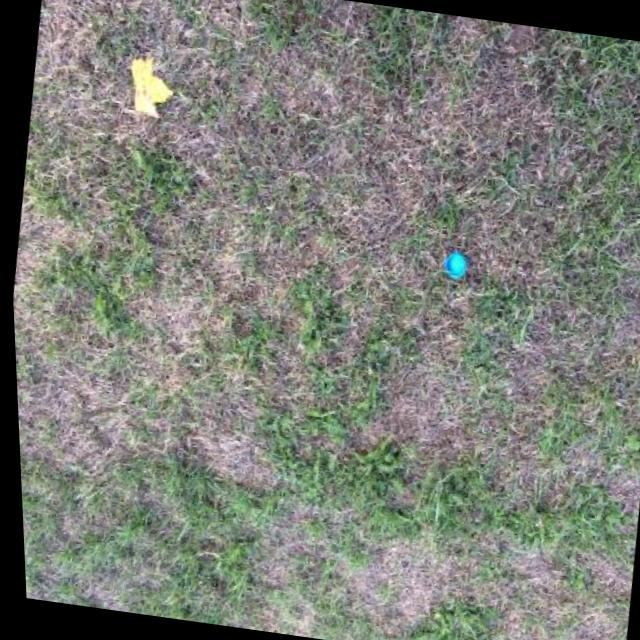plastic: (443, 251, 469, 281)
